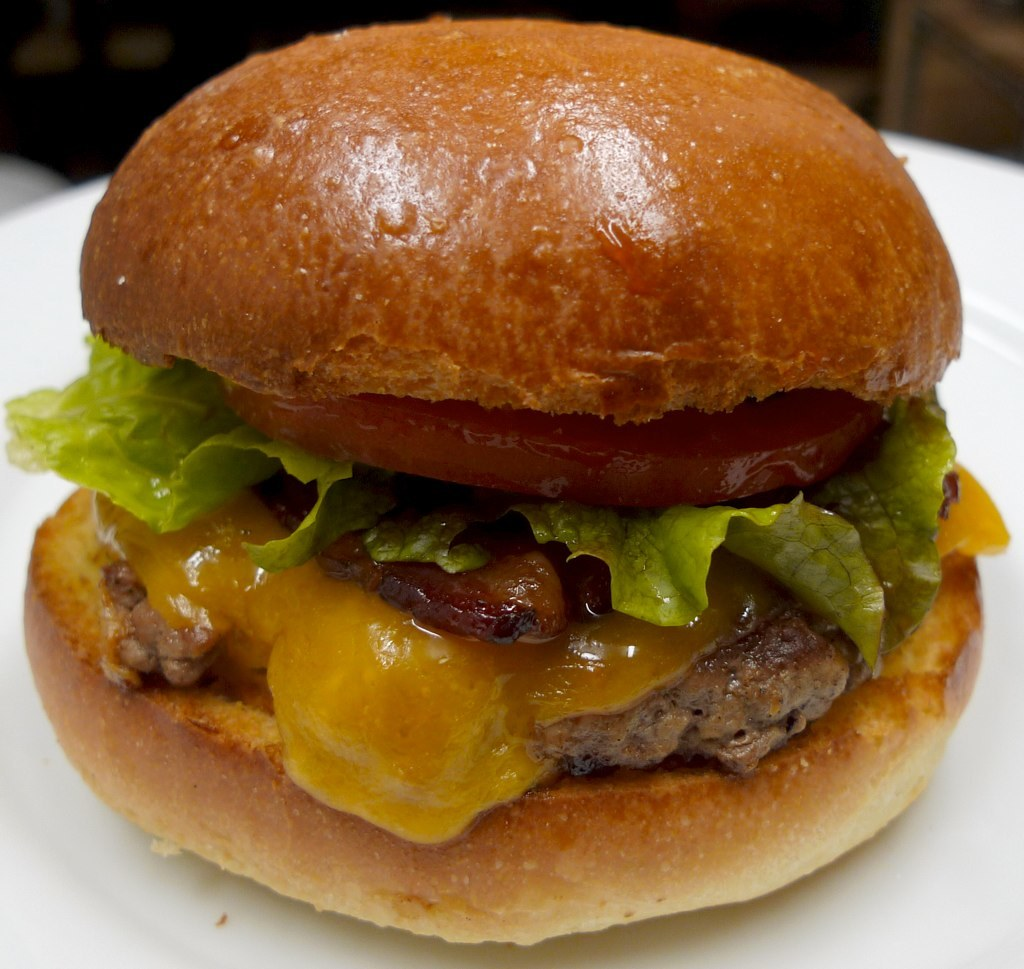Hamburger: (0, 20, 1011, 945)
